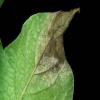Potato leaf late blight: (2, 8, 81, 99)
